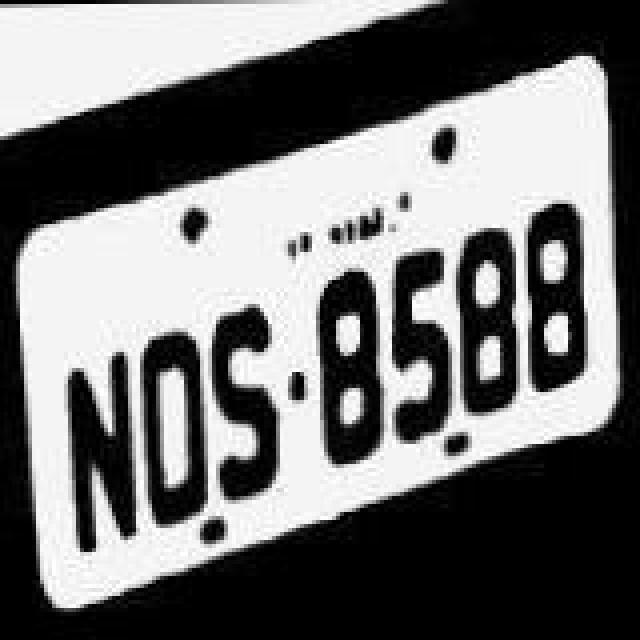5: (382, 244, 458, 440)
8: (520, 172, 600, 420), (306, 254, 390, 482), (450, 214, 526, 430)
N: (56, 334, 140, 570)
O: (134, 280, 214, 524)
S: (208, 280, 292, 508)
